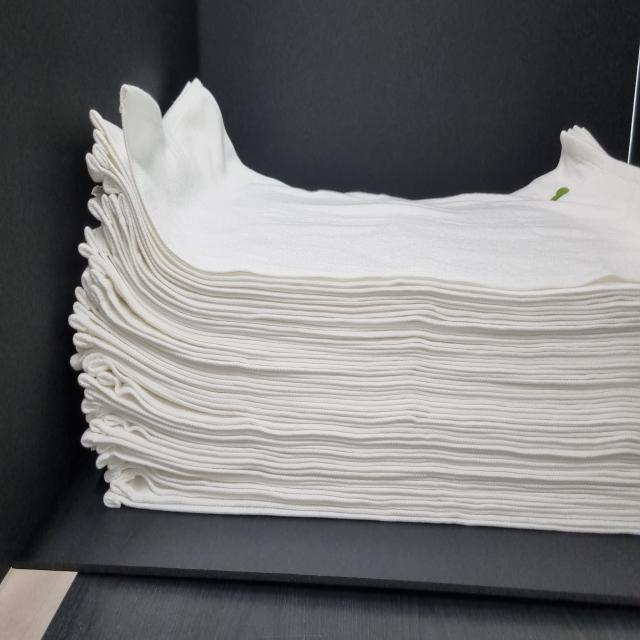50_towel_counts: (52, 56, 640, 548)
